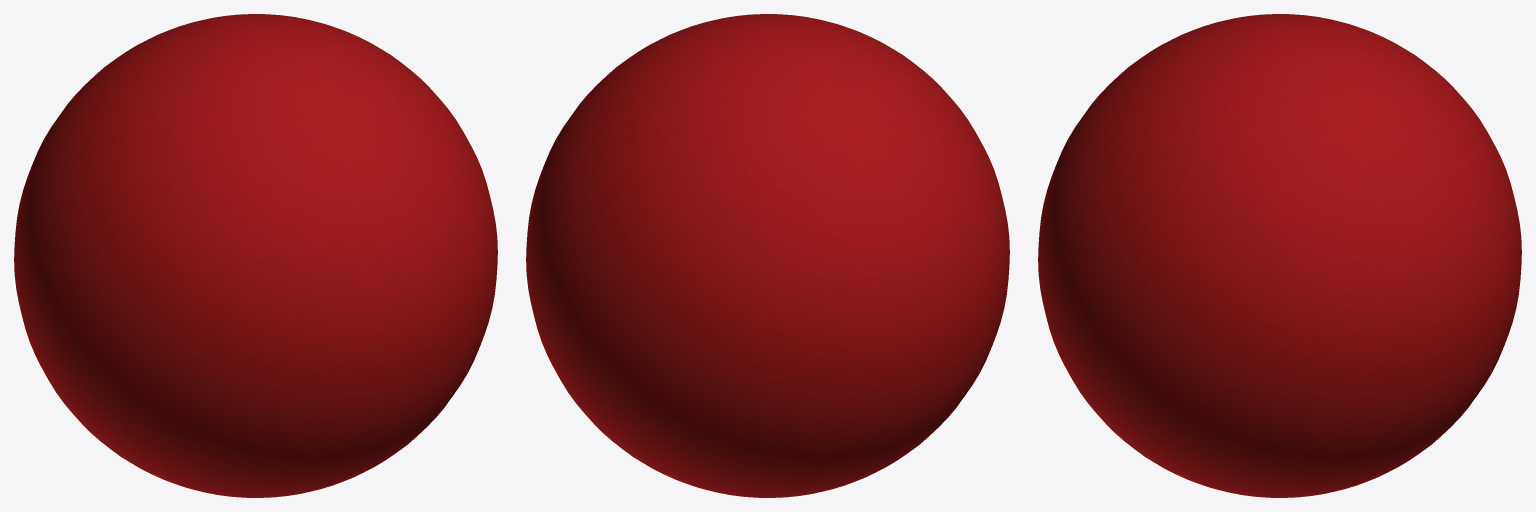
File: Redglober.gltf
3 views of the same model, side by side, from view 1: azimuth 30°, elevation 25°; view 2: azimuth 150°, elevation 25°; view 3: azimuth 270°, elevation 25° (orthographic).
Parts seen in each view (by area): view 1: Sphere; view 2: Sphere; view 3: Sphere.
Part boxes in pixels (x1=…): Sphere: x1=14, y1=14, x2=497, y2=497; Sphere: x1=526, y1=14, x2=1009, y2=497; Sphere: x1=1038, y1=14, x2=1521, y2=497.
Size of the model in its own units: 0.4578 by 0.4581 by 0.4578.
1 material, 1 textured.
